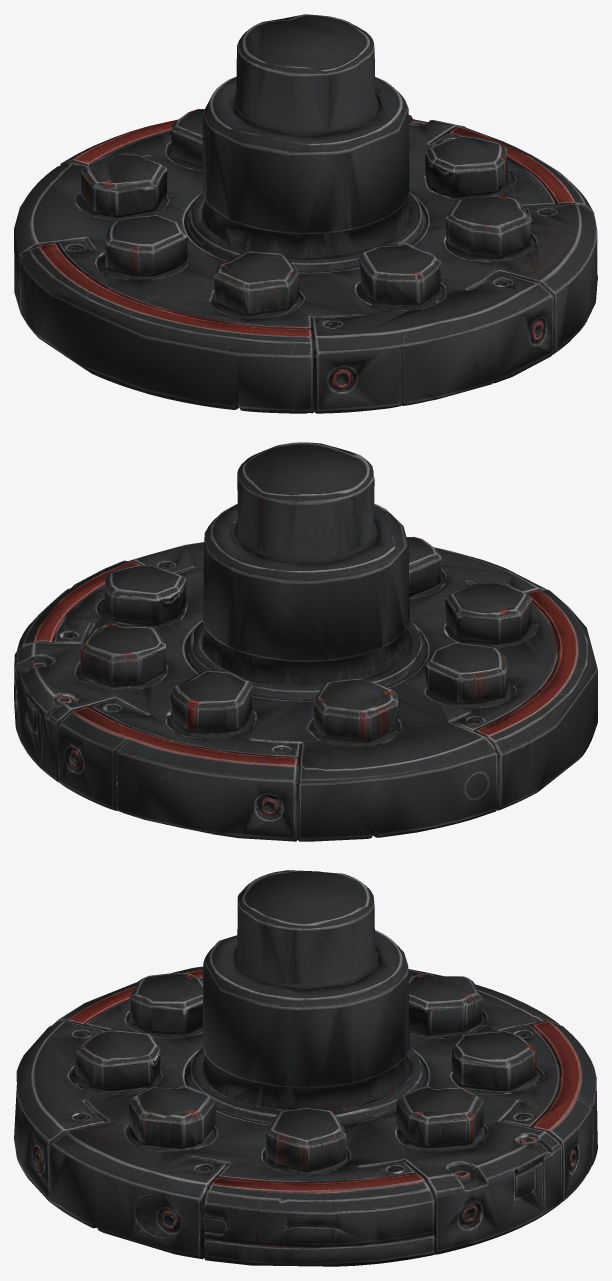
The model's file is bar_spinner_axis.glb.
3 renders of one model, top to bottom at view 1: azimuth 30°, elevation 25°; view 2: azimuth 150°, elevation 25°; view 3: azimuth 270°, elevation 25°, orthographic.
Parts seen in each view (by area): view 1: mesh_node; view 2: mesh_node; view 3: mesh_node.
Part boxes in pixels (<box>): mesh_node: <box>14,14,597,413</box>; mesh_node: <box>14,442,597,841</box>; mesh_node: <box>14,870,597,1266</box>.
Size of the model in its own units: 1.9 by 0.903 by 1.9.
Materials: 1 (1 with a texture image).
